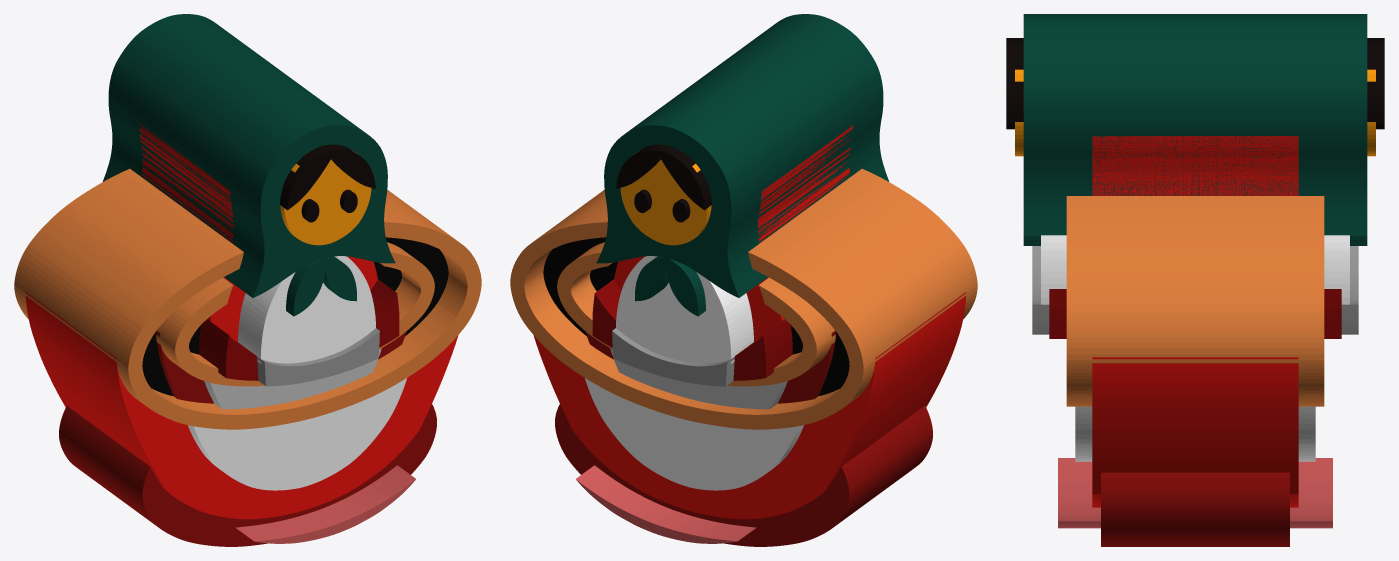
3 renders of one model, left to right at view 1: azimuth 30°, elevation 25°; view 2: azimuth 150°, elevation 25°; view 3: azimuth 270°, elevation 25°, orthographic. The views are drawn at different scales.
Parts seen in each view (by area): view 1: U+1FA86_layer10_obj01, U+1FA86_layer05_obj01, U+1FA86_layer02_obj00, U+1FA86_layer04_obj00, U+1FA86_layer01_obj00, U+1FA86_layer08_obj00, U+1FA86_layer05_obj00, U+1FA86_layer02_obj01, U+1FA86_layer06_obj00, U+1FA86_layer11_obj00, U+1FA86_layer07_obj00, U+1FA86_layer00_obj00 (+6 smaller); view 2: U+1FA86_layer10_obj01, U+1FA86_layer05_obj01, U+1FA86_layer02_obj00, U+1FA86_layer04_obj00, U+1FA86_layer01_obj00, U+1FA86_layer08_obj00, U+1FA86_layer05_obj00, U+1FA86_layer02_obj01, U+1FA86_layer06_obj00, U+1FA86_layer11_obj00, U+1FA86_layer07_obj00, U+1FA86_layer00_obj00 (+6 smaller); view 3: U+1FA86_layer10_obj01, U+1FA86_layer05_obj01, U+1FA86_layer02_obj00, U+1FA86_layer01_obj00, U+1FA86_layer02_obj01, U+1FA86_layer06_obj00, U+1FA86_layer08_obj00, U+1FA86_layer12_obj01, U+1FA86_layer09_obj00, U+1FA86_layer04_obj00, U+1FA86_layer07_obj00, U+1FA86_layer11_obj00.
Boxes of the visible parts, bbox=[...] form: U+1FA86_layer10_obj01: bbox=[102, 14, 395, 297]; U+1FA86_layer05_obj01: bbox=[14, 169, 481, 429]; U+1FA86_layer02_obj00: bbox=[25, 292, 458, 519]; U+1FA86_layer04_obj00: bbox=[188, 378, 406, 490]; U+1FA86_layer01_obj00: bbox=[59, 404, 436, 546]; U+1FA86_layer08_obj00: bbox=[238, 256, 375, 363]; U+1FA86_layer05_obj00: bbox=[156, 242, 434, 386]; U+1FA86_layer02_obj01: bbox=[139, 123, 377, 341]; U+1FA86_layer06_obj00: bbox=[236, 465, 415, 543]; U+1FA86_layer11_obj00: bbox=[280, 151, 371, 245]; U+1FA86_layer07_obj00: bbox=[199, 279, 399, 380]; U+1FA86_layer00_obj00: bbox=[142, 237, 448, 396]; U+1FA86_layer10_obj01: bbox=[596, 14, 889, 297]; U+1FA86_layer05_obj01: bbox=[510, 169, 977, 429]; U+1FA86_layer02_obj00: bbox=[533, 292, 966, 519]; U+1FA86_layer04_obj00: bbox=[585, 378, 803, 490]; U+1FA86_layer01_obj00: bbox=[555, 404, 932, 546]; U+1FA86_layer08_obj00: bbox=[616, 256, 753, 363]; U+1FA86_layer05_obj00: bbox=[557, 242, 835, 386]; U+1FA86_layer02_obj01: bbox=[614, 124, 852, 341]; U+1FA86_layer06_obj00: bbox=[576, 465, 755, 543]; U+1FA86_layer11_obj00: bbox=[620, 151, 711, 245]; U+1FA86_layer07_obj00: bbox=[592, 279, 792, 380]; U+1FA86_layer00_obj00: bbox=[543, 237, 849, 396]; U+1FA86_layer10_obj01: bbox=[1023, 14, 1367, 235]; U+1FA86_layer05_obj01: bbox=[1066, 196, 1324, 406]; U+1FA86_layer02_obj00: bbox=[1092, 357, 1298, 507]; U+1FA86_layer01_obj00: bbox=[1101, 472, 1289, 546]; U+1FA86_layer02_obj01: bbox=[1092, 136, 1298, 195]; U+1FA86_layer06_obj00: bbox=[1058, 458, 1332, 528]; U+1FA86_layer08_obj00: bbox=[1041, 235, 1349, 304]; U+1FA86_layer12_obj01: bbox=[1006, 38, 1384, 121]; U+1FA86_layer09_obj00: bbox=[1032, 246, 1358, 334]; U+1FA86_layer04_obj00: bbox=[1075, 406, 1315, 461]; U+1FA86_layer07_obj00: bbox=[1049, 289, 1341, 338]; U+1FA86_layer11_obj00: bbox=[1015, 69, 1375, 156].
Size of the model in its own units: 0.2684 by 0.3174 by 0.22.
